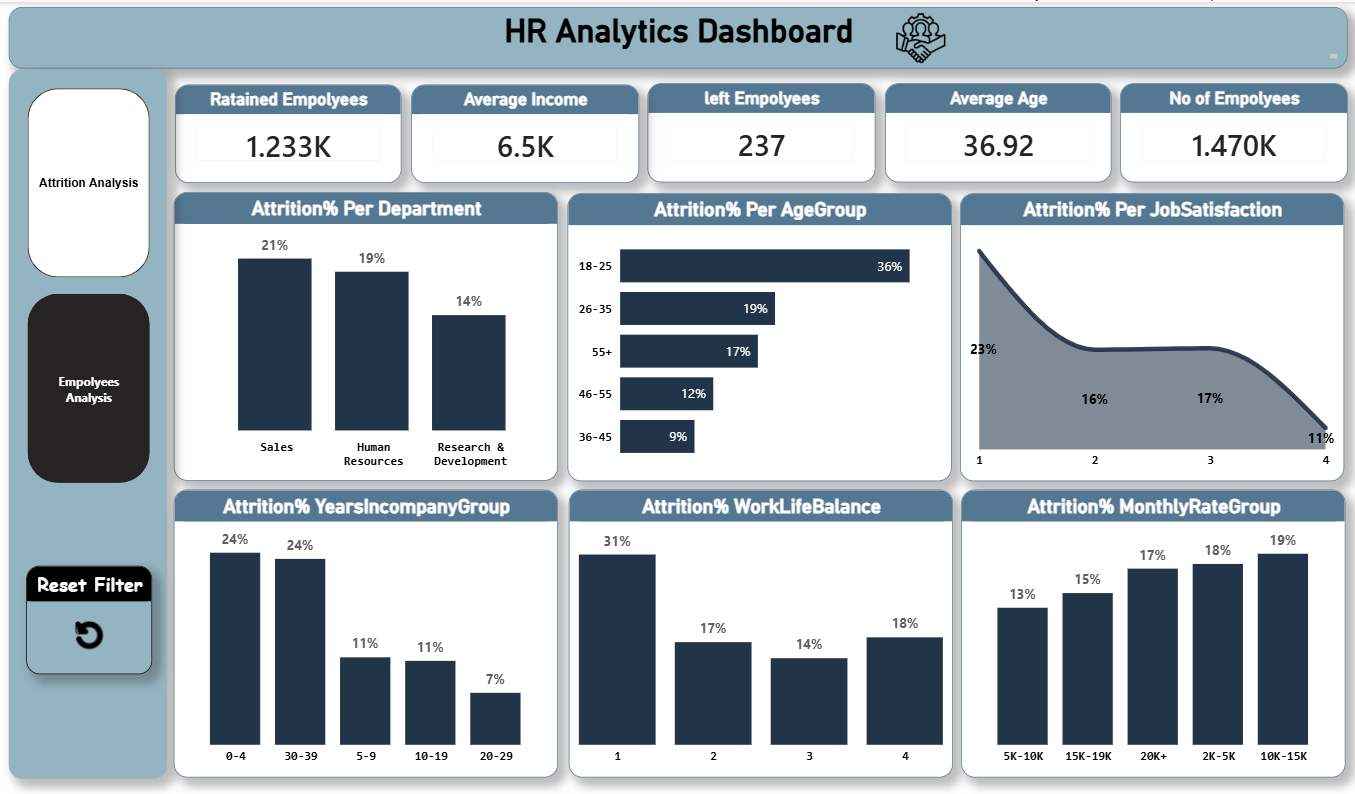

The page's visual inventory and layout, read from the dashboard file:
{"tool":"powerbi","page":{"name":"Empolyees Analysis","canvas":[1500,880],"ordinal":1},"visuals":[{"type":"cardVisual","title":"left Empolyees","fields":{"Data":["M.Measures.1. No of left Empolyees"]},"box":[716,89.7,251.7,110],"z":0},{"type":"cardVisual","title":"Ratained Empolyees","fields":{"Data":["M.Measures.2. No of Stayed Empolyees"]},"box":[193,91.1,250.3,108.5],"z":1000},{"type":"cardVisual","title":"Average Age","fields":{"Data":["M.Measures.3. Average Age"]},"box":[978,89.7,250.3,110],"z":2000},{"type":"cardVisual","title":"Average  Income","fields":{"Data":["M.Measures.4. Average Monthly Income"]},"box":[454,91.1,251.7,109],"z":3000},{"type":"textbox","title":"HR Analytics Dashboard","box":[10.1,5,1480,68],"z":4000},{"type":"image","box":[980.9,13,73.8,55],"z":5000},{"type":"cardVisual","title":"No of Empolyees","fields":{"Data":["M.Measures.0. No of Empolyee"]},"box":[1238.4,89.7,251.7,110],"z":6000},{"type":"columnChart","title":"Attrition% Per Department","fields":{"Y":["M.Measures.6. Attration Rate"],"Category":["HR_Analytics(8 2).Department"]},"box":[192.8,209.7,425,319.4],"z":7000},{"type":"clusteredBarChart","title":"Attrition% Per AgeGroup","fields":{"Category":["HR_Analytics(8 2).AgeGroup"],"Y":["M.Measures.6. Attration Rate"]},"box":[627,211.1,425,318],"z":8000},{"type":"stackedAreaChart","title":"Attrition% Per JobSatisfaction","fields":{"Category":["HR_Analytics(8 2).JobSatisfaction"],"Y":["M.Measures.6. Attration Rate"]},"box":[1062,211.1,425,318],"z":9000},{"type":"textbox","box":[10.1,75.2,175.1,784.1],"z":10000},{"type":"pageNavigator","box":[24.9,89.8,147.9,449.1],"z":11000},{"type":"actionButton","title":"Reset Filter","box":[29,623.2,139.6,120.2],"z":12000},{"type":"columnChart","title":"Attrition% YearsIncompanyGroup","fields":{"Y":["M.Measures.6. Attration Rate"],"Category":["HR_Analytics(8 2).YearsIncompanyGroup"]},"box":[192.8,539,425,318],"z":13000},{"type":"columnChart","title":"Attrition% WorkLifeBalance","fields":{"Y":["M.Measures.6. Attration Rate"],"Category":["HR_Analytics(8 2).WorkLifeBalance"]},"box":[629,538.9,425,318],"z":14000},{"type":"columnChart","title":"Attrition% MonthlyRateGroup","fields":{"Y":["M.Measures.6. Attration Rate"],"Category":["HR_Analytics(8 2).MonthlyRateGroup"]},"box":[1062.4,538.9,425,318],"z":15000}]}

Visuals, with their boxes in screenshot pixels (x1, y1, x2, y2), scaled from the page's 1500x880 canvas onto the 1355x794 screenshot:
"left Empolyees" cardVisual: <bbox>647, 81, 874, 180</bbox>
"Ratained Empolyees" cardVisual: <bbox>174, 82, 400, 180</bbox>
"Average Age" cardVisual: <bbox>883, 81, 1110, 180</bbox>
"Average  Income" cardVisual: <bbox>410, 82, 637, 181</bbox>
"HR Analytics Dashboard" textbox: <bbox>9, 5, 1346, 66</bbox>
image: <bbox>886, 12, 953, 61</bbox>
"No of Empolyees" cardVisual: <bbox>1119, 81, 1346, 180</bbox>
"Attrition% Per Department" columnChart: <bbox>174, 189, 558, 477</bbox>
"Attrition% Per AgeGroup" clusteredBarChart: <bbox>566, 190, 950, 477</bbox>
"Attrition% Per JobSatisfaction" stackedAreaChart: <bbox>959, 190, 1343, 477</bbox>
textbox: <bbox>9, 68, 167, 775</bbox>
pageNavigator: <bbox>22, 81, 156, 486</bbox>
"Reset Filter" actionButton: <bbox>26, 562, 152, 671</bbox>
"Attrition% YearsIncompanyGroup" columnChart: <bbox>174, 486, 558, 773</bbox>
"Attrition% WorkLifeBalance" columnChart: <bbox>568, 486, 952, 773</bbox>
"Attrition% MonthlyRateGroup" columnChart: <bbox>960, 486, 1344, 773</bbox>
